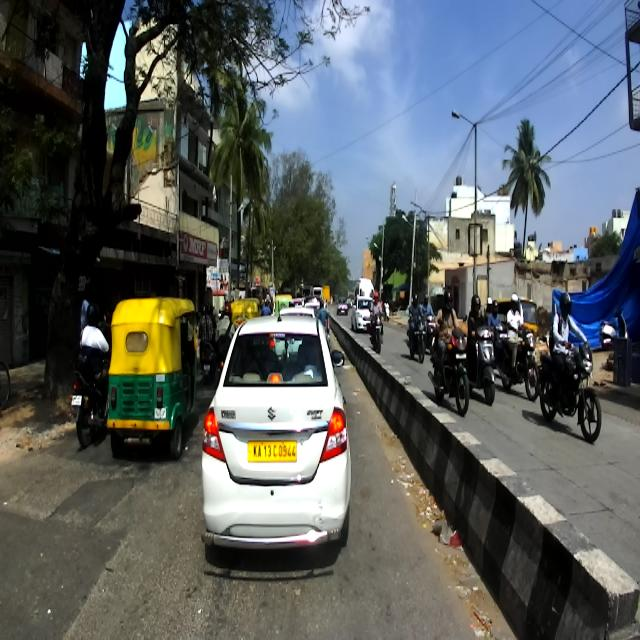auto ahead at: (106, 296, 199, 462)
car ahead at: (208, 304, 352, 572)
tree ahead at: (32, 1, 138, 420)
